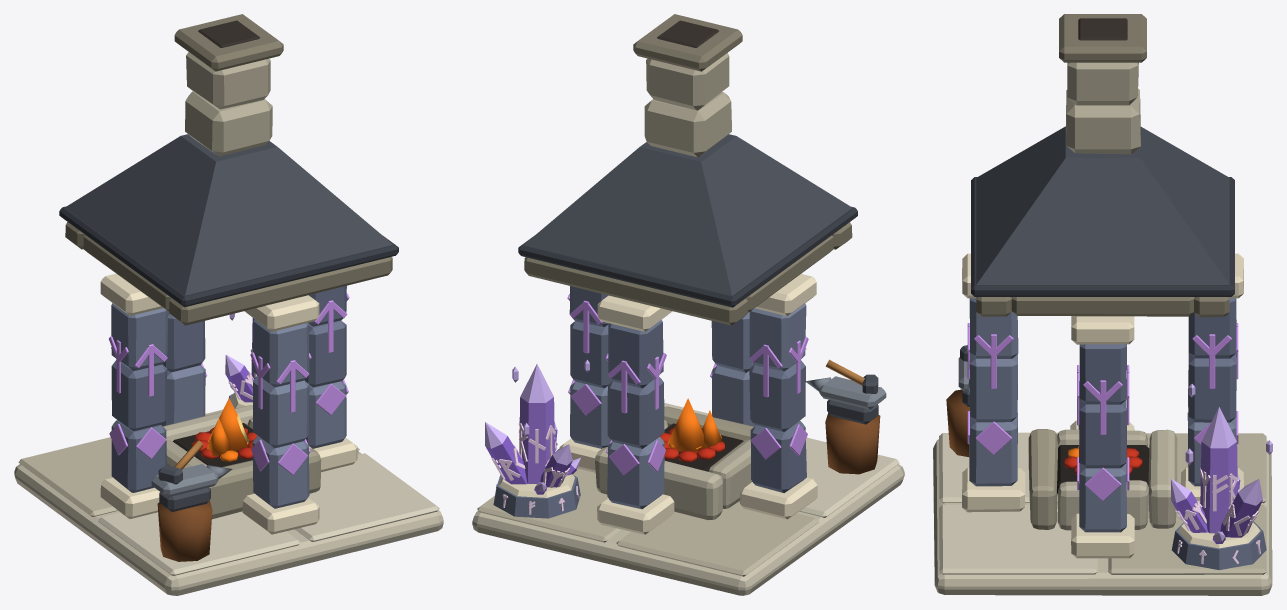
File: forgemagie2-niv2.glb
3 renders of one model, left to right at view 1: azimuth 30°, elevation 25°; view 2: azimuth 150°, elevation 25°; view 3: azimuth 270°, elevation 25°, orthographic. The views are drawn at different scales.
Parts seen in each view (by area): view 1: hotte, socle, pave.003, pave.002, pave, linteau, hotte_bord, cheminee, cheminee.001, pilier.001, pilier.010, cheminee_haut (+23 smaller); view 2: hotte, socle, pave, hotte_bord, linteau.001, cheminee, foyer.001, cheminee.001, pilier.004, pilier.010, pave.002, cheminee_haut (+29 smaller); view 3: hotte, socle, pave.003, hotte_bord, cheminee, pave.001, linteau.002, cheminee_haut, cheminee.001, pilier.007, pilier.001, foyer (+28 smaller).
Part boxes in pixels (left/top/right/bottom): hotte: left=65, top=134, right=393, bottom=295; socle: left=14, top=451, right=443, bottom=595; pave.003: left=295, top=453, right=439, bottom=541; pave.002: left=98, top=511, right=300, bottom=575; pave: left=18, top=437, right=117, bottom=516; linteau: left=169, top=257, right=392, bottom=325; hotte_bord: left=59, top=206, right=398, bottom=307; cheminee: left=185, top=91, right=272, bottom=156; cheminee.001: left=186, top=52, right=270, bottom=109; pilier.001: left=253, top=375, right=309, bottom=448; pilier.010: left=111, top=360, right=167, bottom=431; cheminee_haut: left=174, top=14, right=283, bottom=71; hotte: left=523, top=134, right=852, bottom=295; socle: left=472, top=464, right=904, bottom=595; pave: left=616, top=501, right=818, bottom=576; hotte_bord: left=518, top=206, right=857, bottom=307; linteau.001: left=524, top=257, right=748, bottom=325; cheminee: left=644, top=92, right=731, bottom=157; foyer.001: left=595, top=447, right=723, bottom=519; cheminee.001: left=646, top=53, right=729, bottom=110; pilier.004: left=607, top=377, right=664, bottom=448; pilier.010: left=749, top=360, right=805, bottom=431; pave.002: left=799, top=437, right=899, bottom=517; cheminee_haut: left=633, top=14, right=742, bottom=71; hotte: left=976, top=126, right=1229, bottom=284; socle: left=933, top=439, right=1272, bottom=595; pave.003: left=939, top=504, right=1097, bottom=574; hotte_bord: left=971, top=177, right=1234, bottom=296; cheminee: left=1066, top=88, right=1140, bottom=154; pave.001: left=1108, top=504, right=1266, bottom=574; linteau.002: left=1011, top=297, right=1194, bottom=316; cheminee_haut: left=1059, top=14, right=1146, bottom=62; cheminee.001: left=1067, top=62, right=1138, bottom=105; pilier.007: left=1079, top=399, right=1126, bottom=468; pilier.001: left=969, top=353, right=1017, bottom=422; foyer: left=1028, top=429, right=1058, bottom=529.
Bounding box in the file's own units: 1.93 × 3.14 × 1.93.
